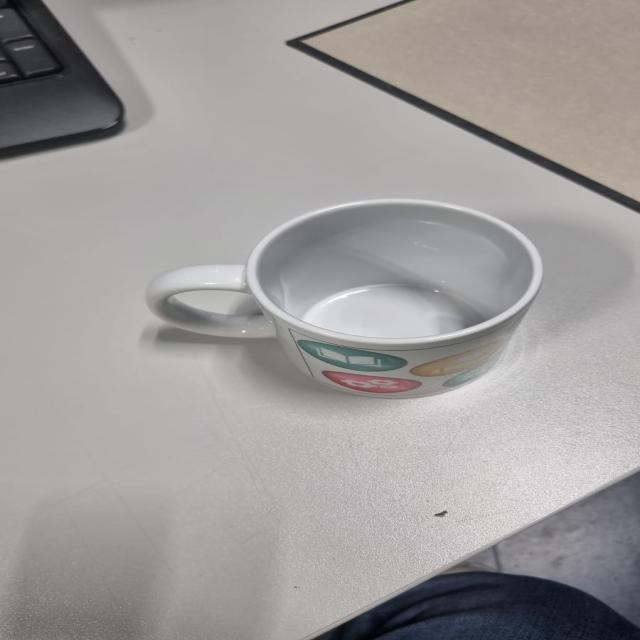Cup: (148, 200, 543, 398)
